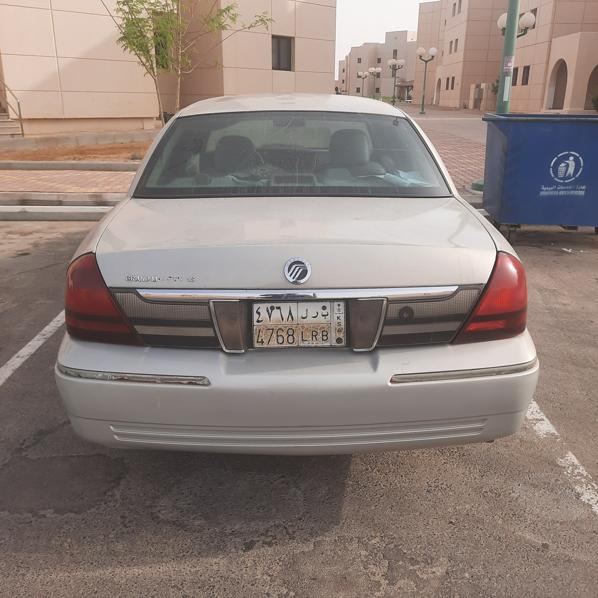numberplate: (252, 301, 347, 349)
